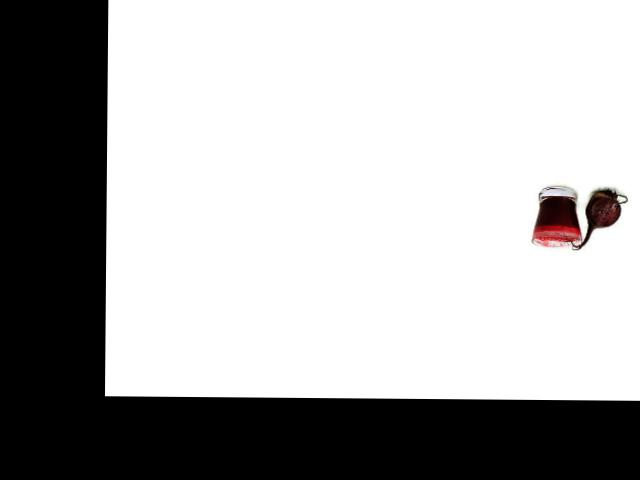beet: (563, 188, 627, 250)
